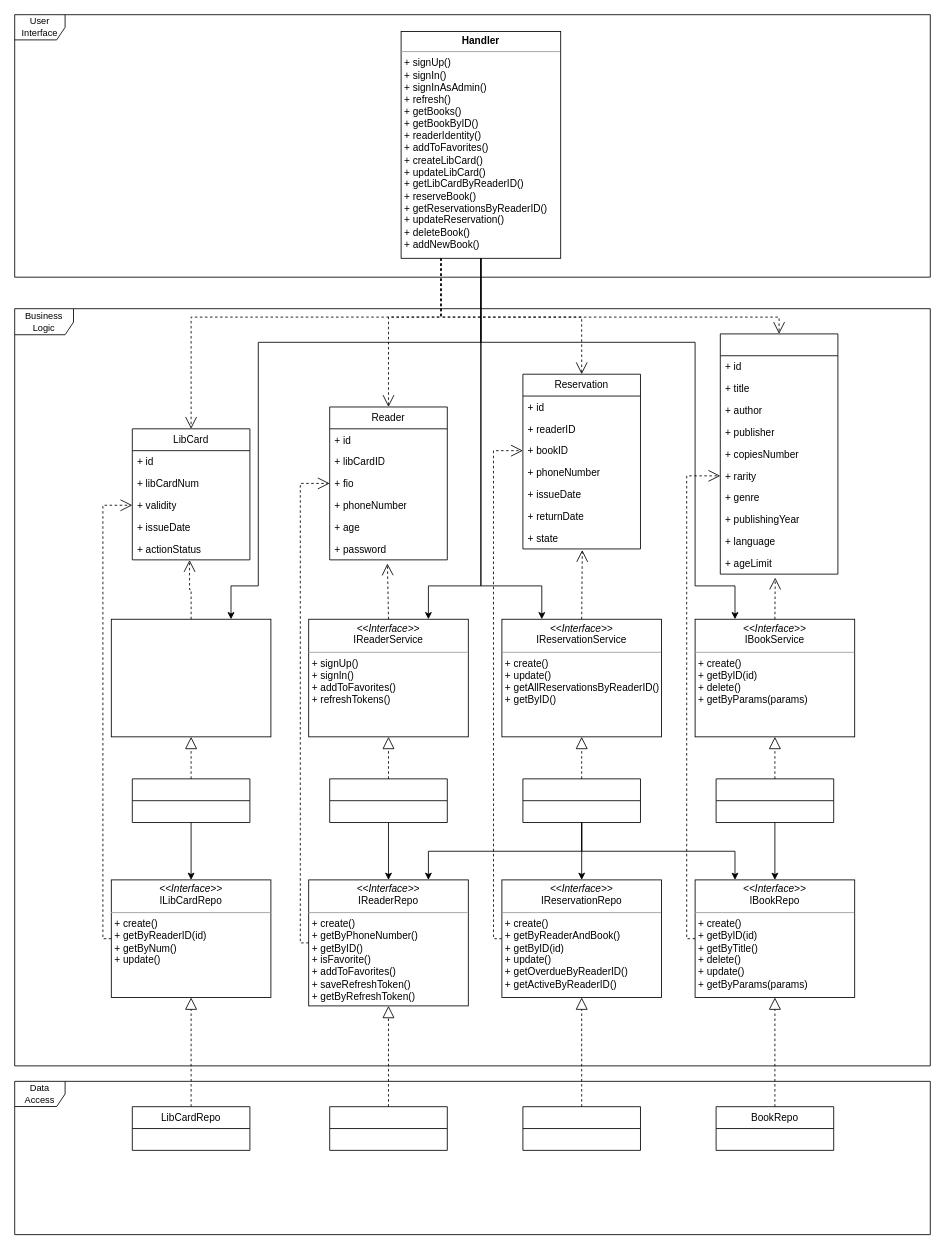
Image size: 945x1250. Some labels were removed from this diagram. The shapes that lost their labels are listed below. From the top down, each one's box as (x1, y1, x2, y2) in pixels, then its label:
(719, 333, 838, 574): Book
(110, 618, 271, 737): <<Interface>> ILibCardService + create() + update(id) + getByReaderID()
(131, 778, 250, 823): LibCardService
(329, 778, 447, 823): ReaderService
(522, 778, 640, 823): ReservationService
(715, 778, 834, 823): BookService
(329, 1106, 447, 1150): ReaderRepo
(522, 1106, 640, 1150): ReservationRepo
